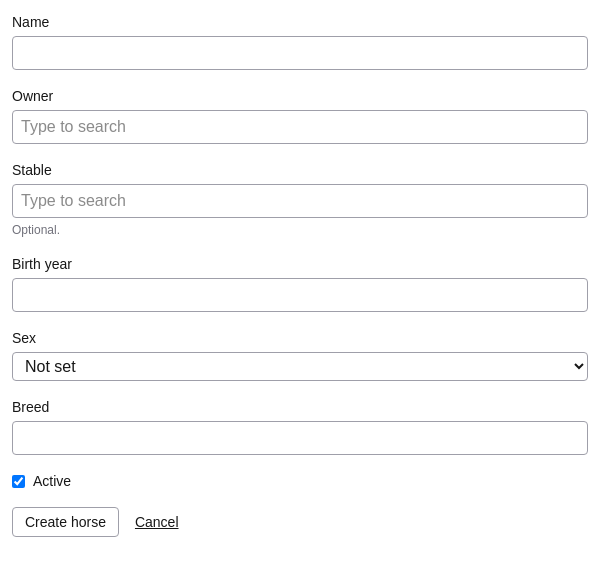
Scenario: the other fields are the backend's to judge › a birth year that is not a whole number (abc) is stopped on its control, before any request
Type "Kalle" into the field labelled "Name" at (300, 53), box top-left (12, 36), bottom-right (588, 70)
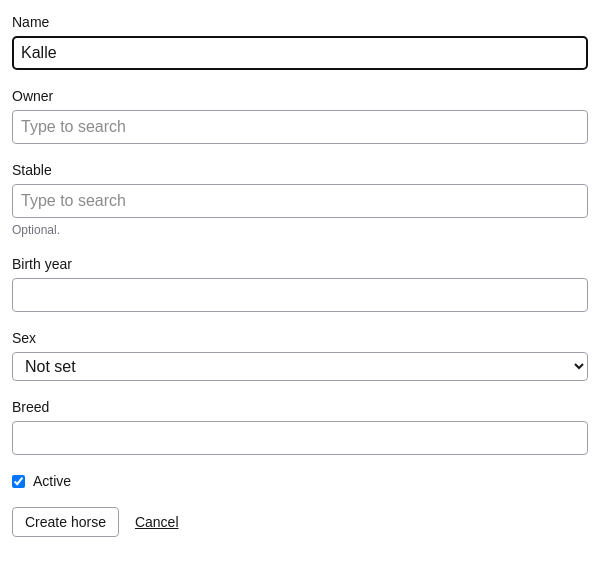
Click the dropdown labelled "Owner" at (300, 127), box top-left (12, 110), bottom-right (588, 144)
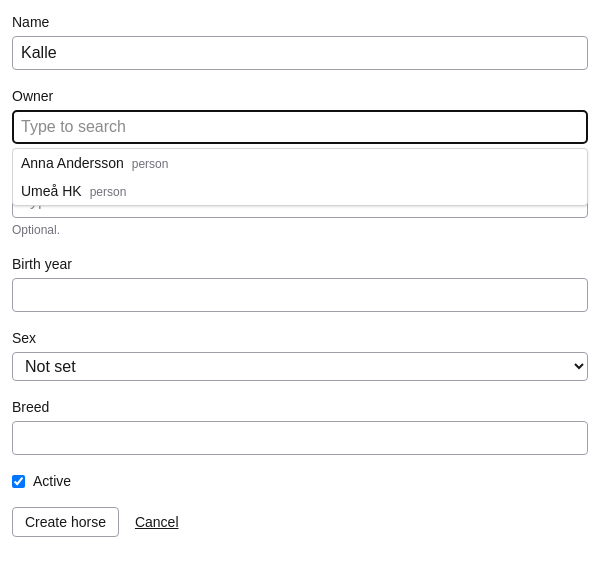
Click the 1st option at (95, 163), box top-left (21, 155), bottom-right (168, 171)
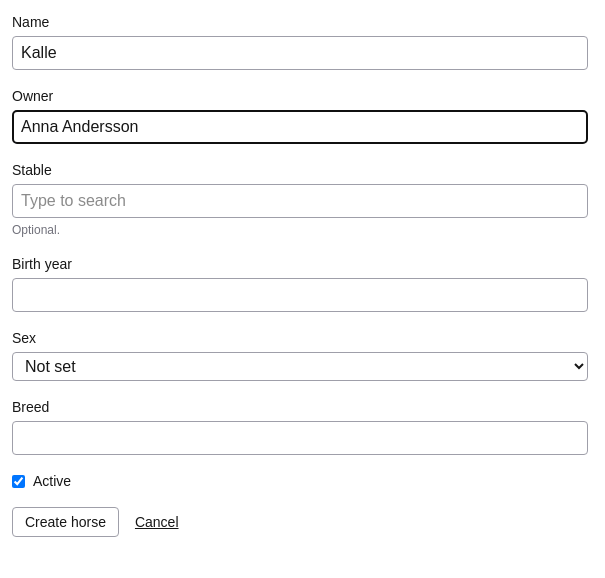
Type "abc" into the field labelled "Birth year" at (300, 295), box top-left (12, 278), bottom-right (588, 312)
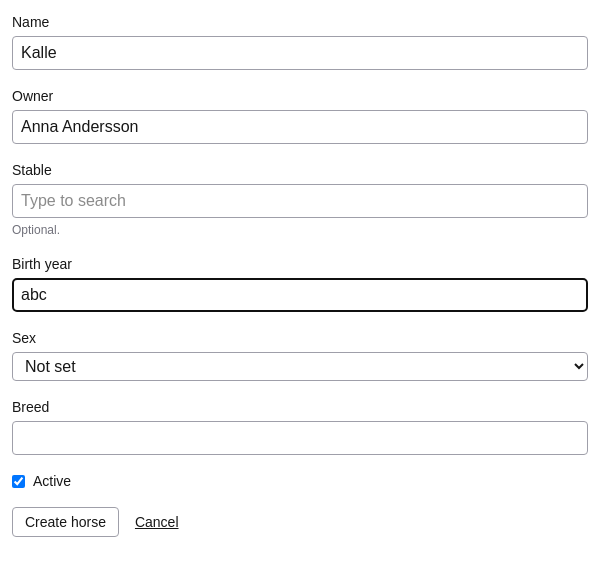
Click the button "Create horse" at (65, 522), box top-left (12, 507), bottom-right (119, 537)
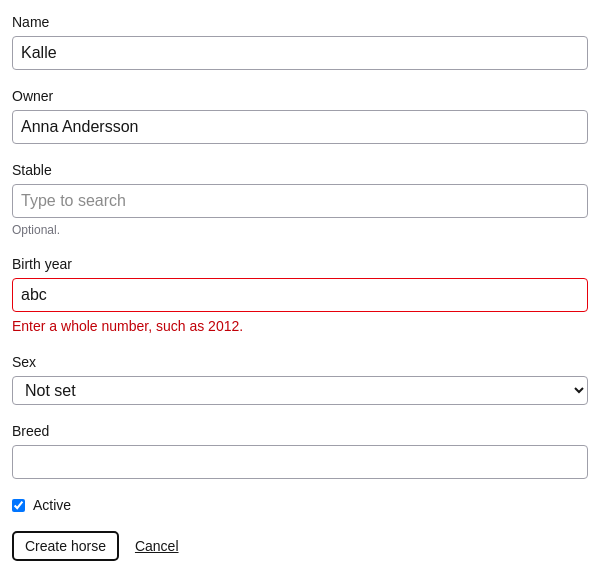
Expected: the text with test id "error-birth_year" shows "Enter a whole number", top-left (12, 318), bottom-right (243, 334)
